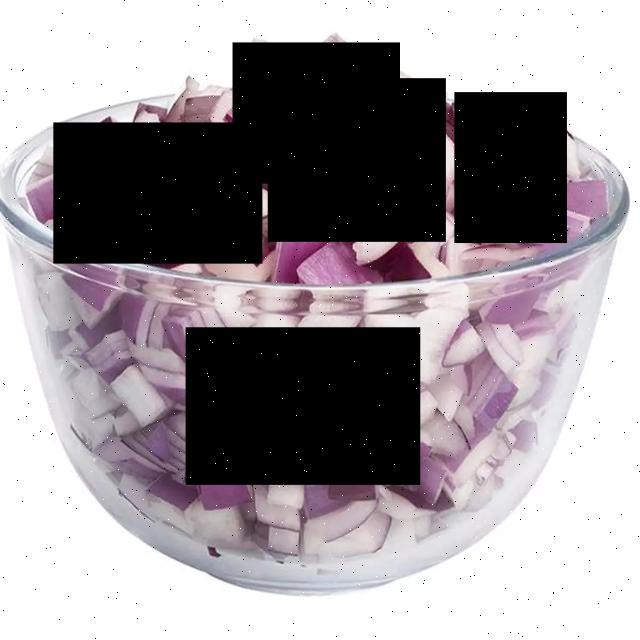Onion: (186, 327, 420, 485), (54, 122, 262, 264), (268, 79, 446, 242), (233, 43, 400, 184), (455, 92, 567, 243)
